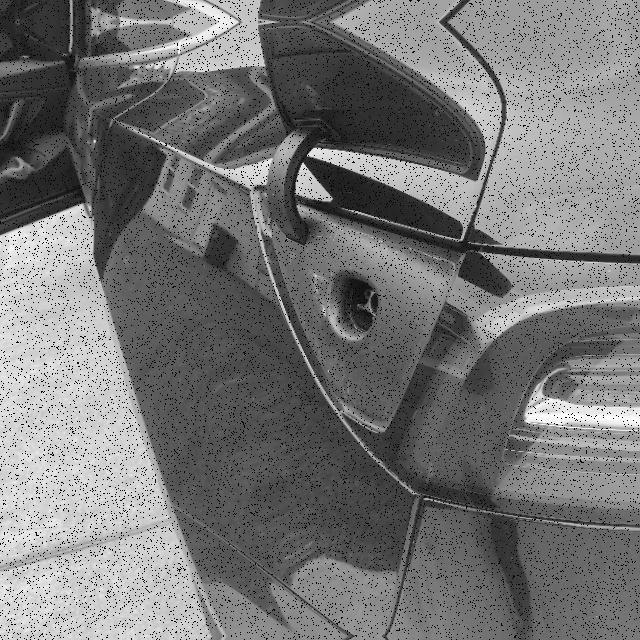Tesla Model-S-: (318, 260, 396, 362)
